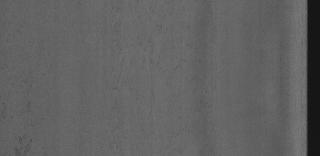silk spot: (108, 14, 212, 154)
water spot: (10, 128, 40, 156)
